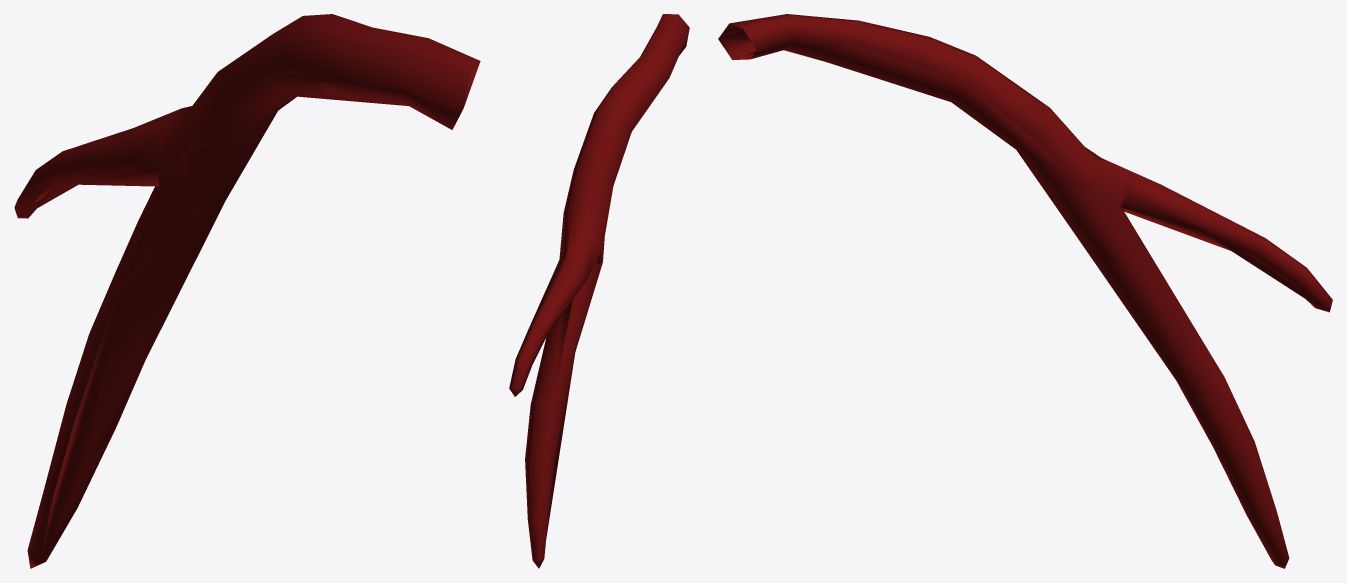
File: L profunda antebrachii.fbx
The picture shows the model from 3 angles, left to right: view 1: azimuth 30°, elevation 25°; view 2: azimuth 150°, elevation 25°; view 3: azimuth 270°, elevation 25°; orthographic projection. The views are drawn at different scales.
Parts seen in each view (by area): view 1: L profunda antebrachii, L profunda antebrachii low; view 2: L profunda antebrachii, L profunda antebrachii low; view 3: L profunda antebrachii, L profunda antebrachii low.
Boxes of the visible parts, left/top/right/bottom form: L profunda antebrachii: left=14, top=14, right=480, bottom=568; L profunda antebrachii low: left=34, top=30, right=480, bottom=562; L profunda antebrachii: left=509, top=14, right=689, bottom=568; L profunda antebrachii low: left=529, top=33, right=670, bottom=539; L profunda antebrachii: left=718, top=14, right=1332, bottom=568; L profunda antebrachii low: left=718, top=16, right=1320, bottom=470.
Size of the model in its own units: 0.7675 by 4.55 by 4.31.
